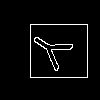Y: (25, 25, 82, 78)
